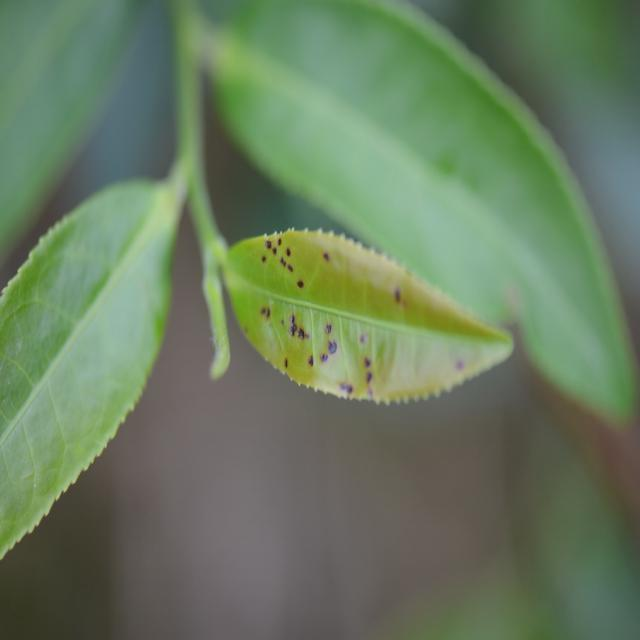Tea red scab: (242, 296, 479, 409), (252, 228, 417, 305)
